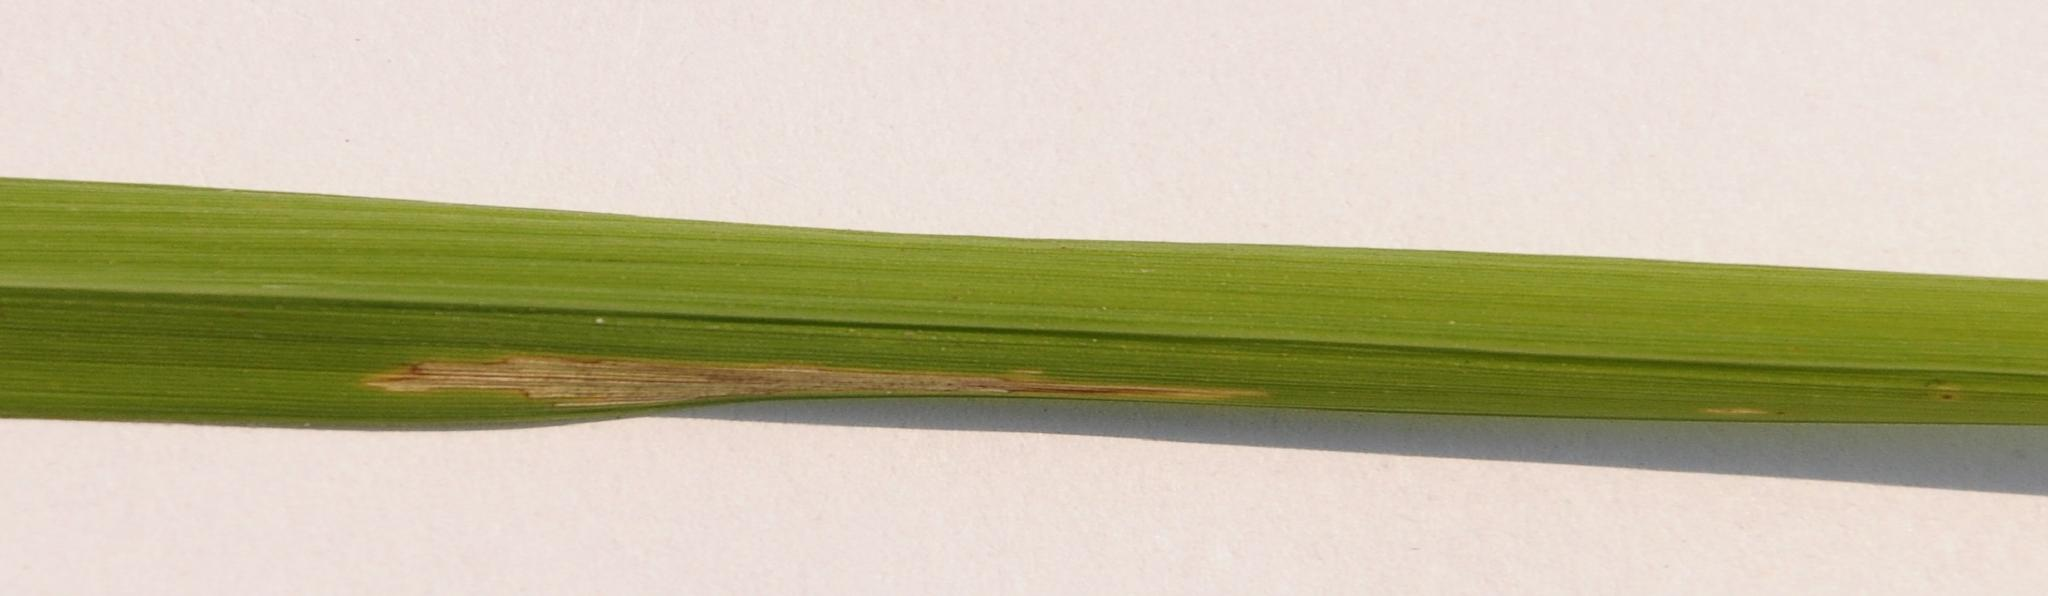2 BacterialBlight: (349, 305, 1314, 447)
